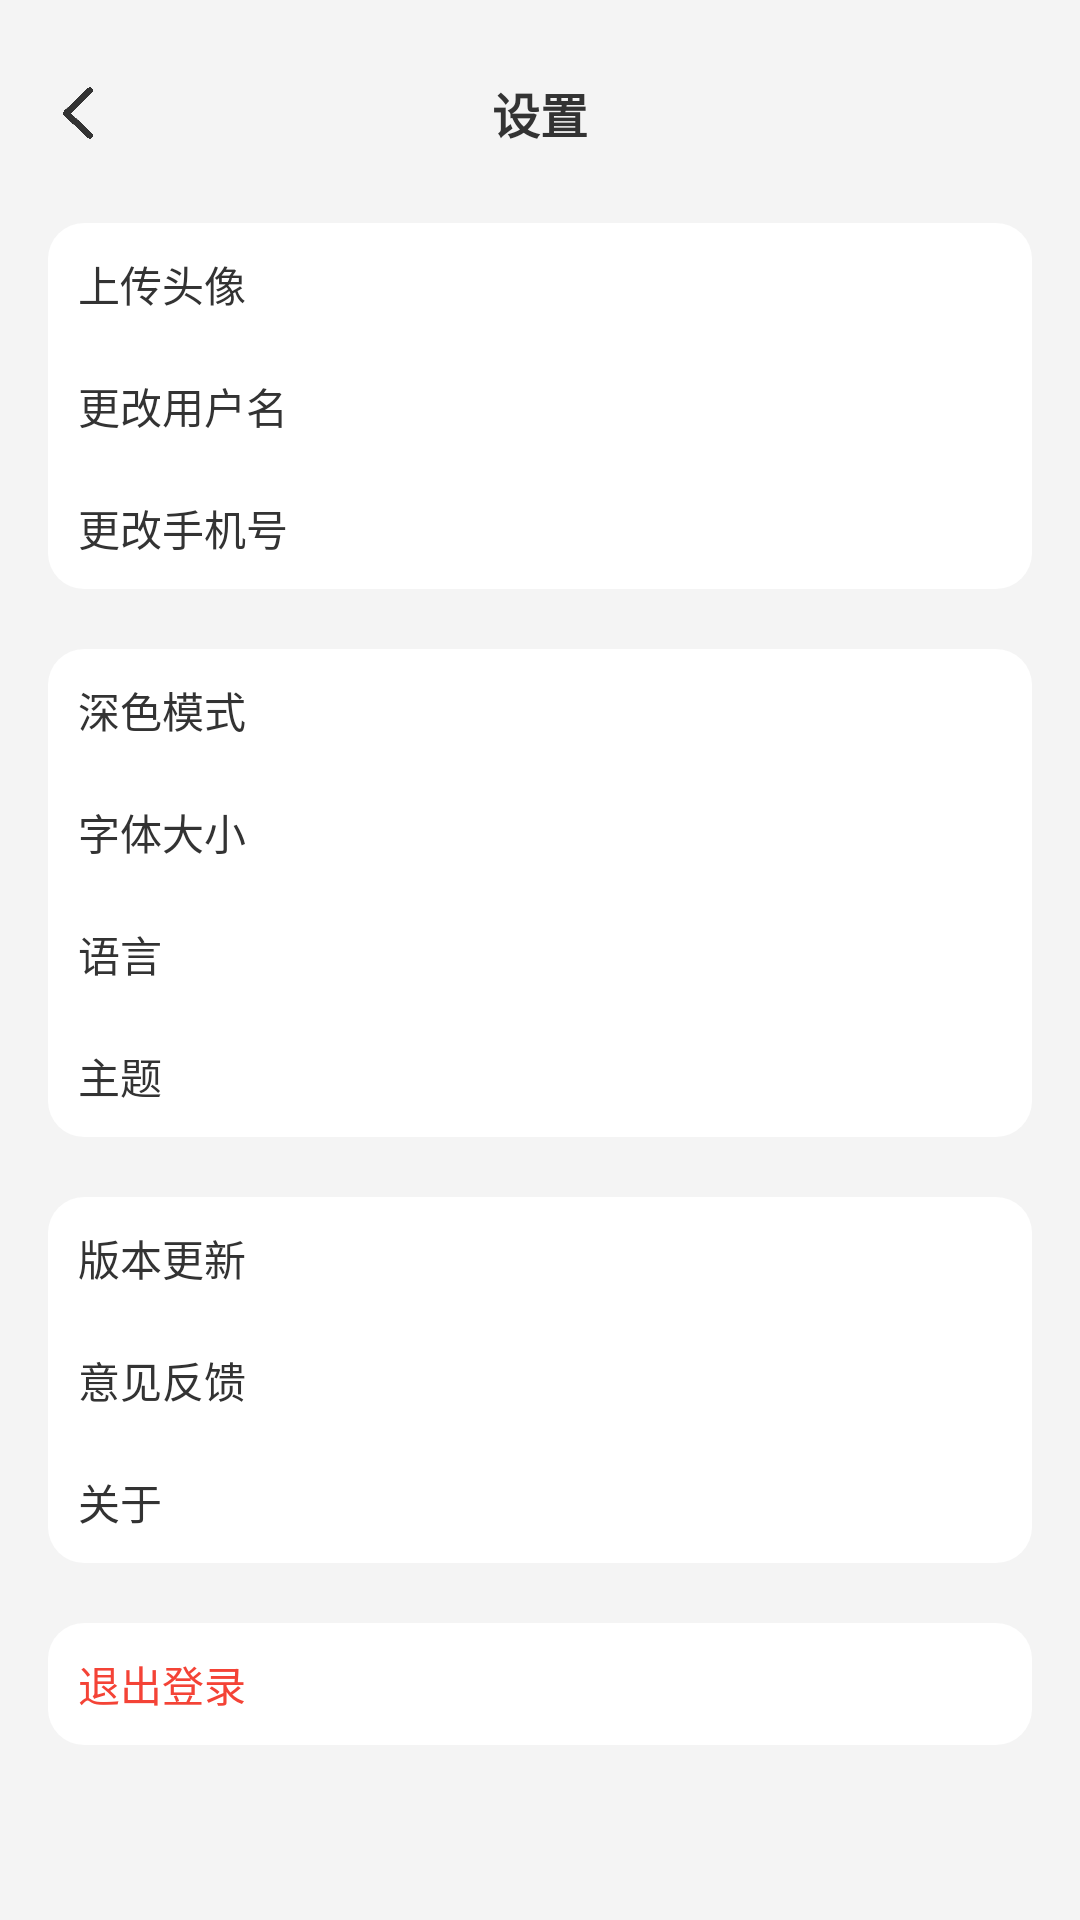

Named icons in this screenshot (1080px x 1920px) and their centers, (x,y):
back: (78,113)
